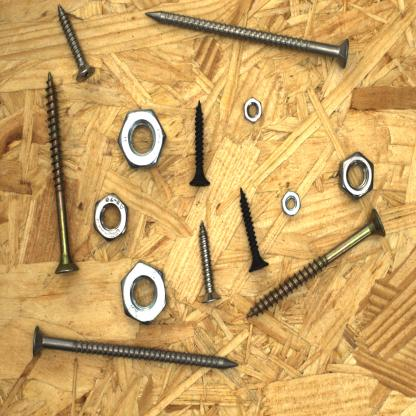screw: (244, 206, 390, 322), (142, 8, 352, 72), (30, 322, 240, 371), (45, 69, 79, 277), (56, 2, 98, 86), (237, 183, 271, 273), (193, 219, 223, 305), (189, 98, 212, 191)
